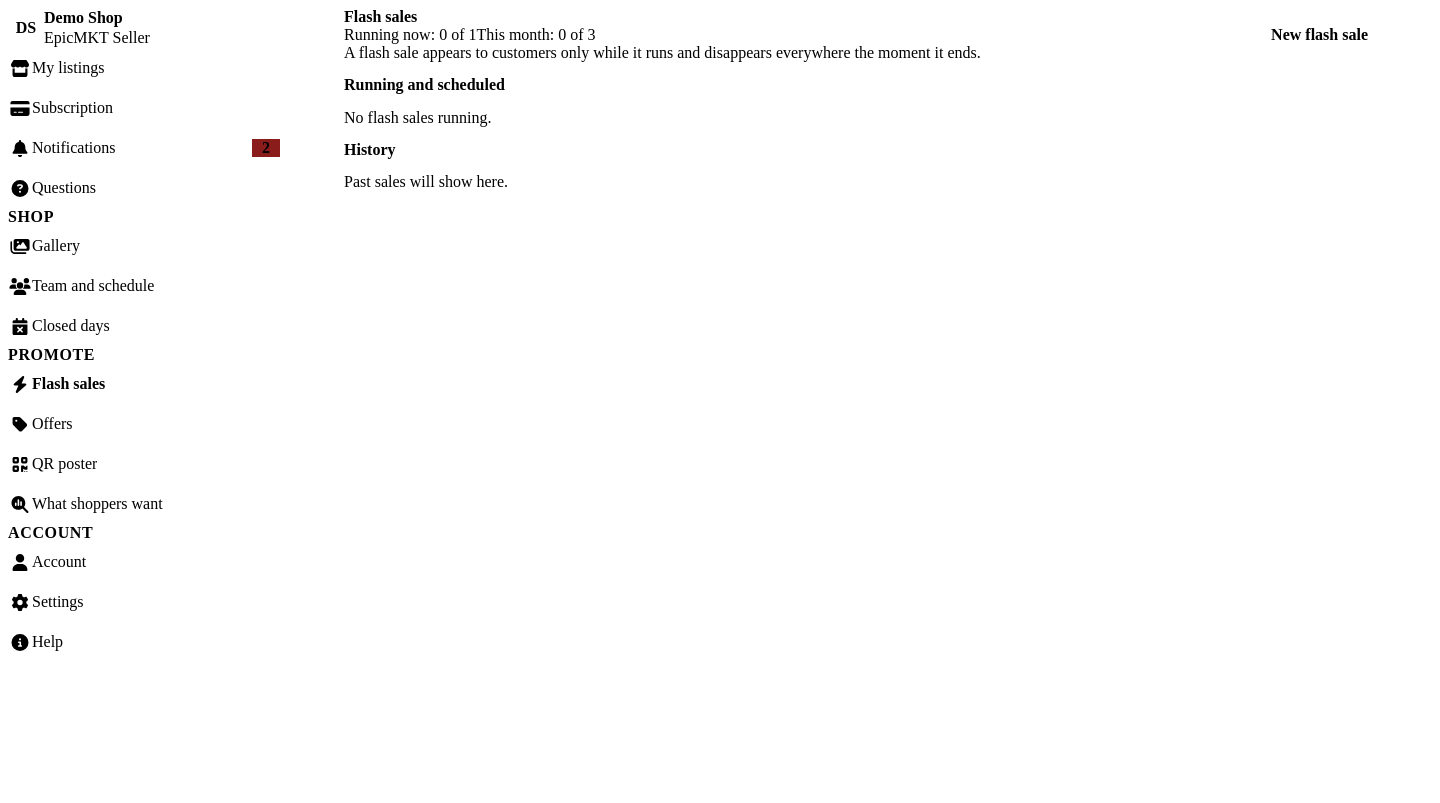
Test: flash sale per option (seller) › every option: shows before and after for each sold combination and the lowest price
The image size is (1440, 803).
Step 1. Click the button "New flash sale" → x=1320, y=35, box top-left (1271, 26), bottom-right (1368, 44)
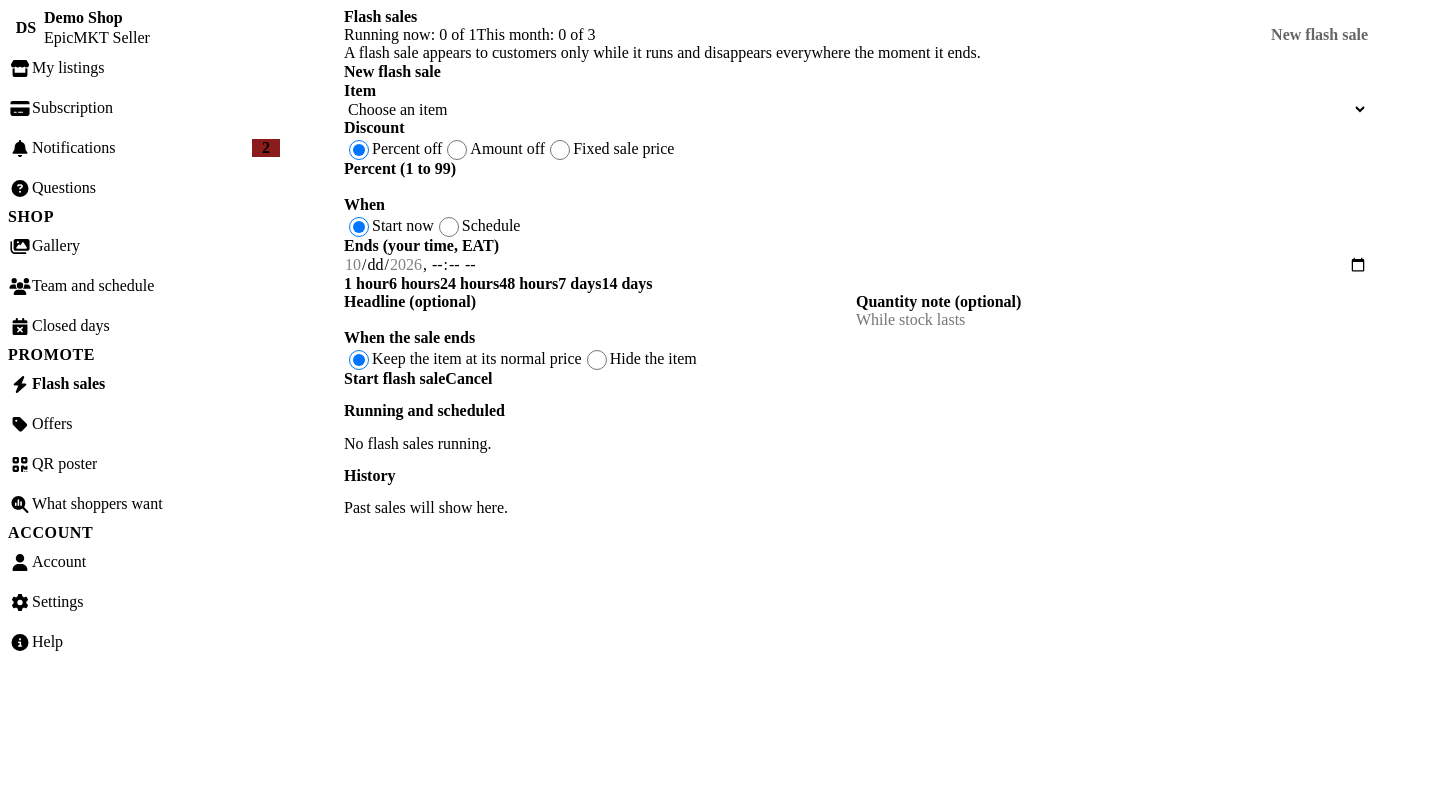
Step 2. Select "Fade cut (KES 500)" in the dropdown labelled "Item" → x=856, y=110, box top-left (344, 100), bottom-right (1368, 119)
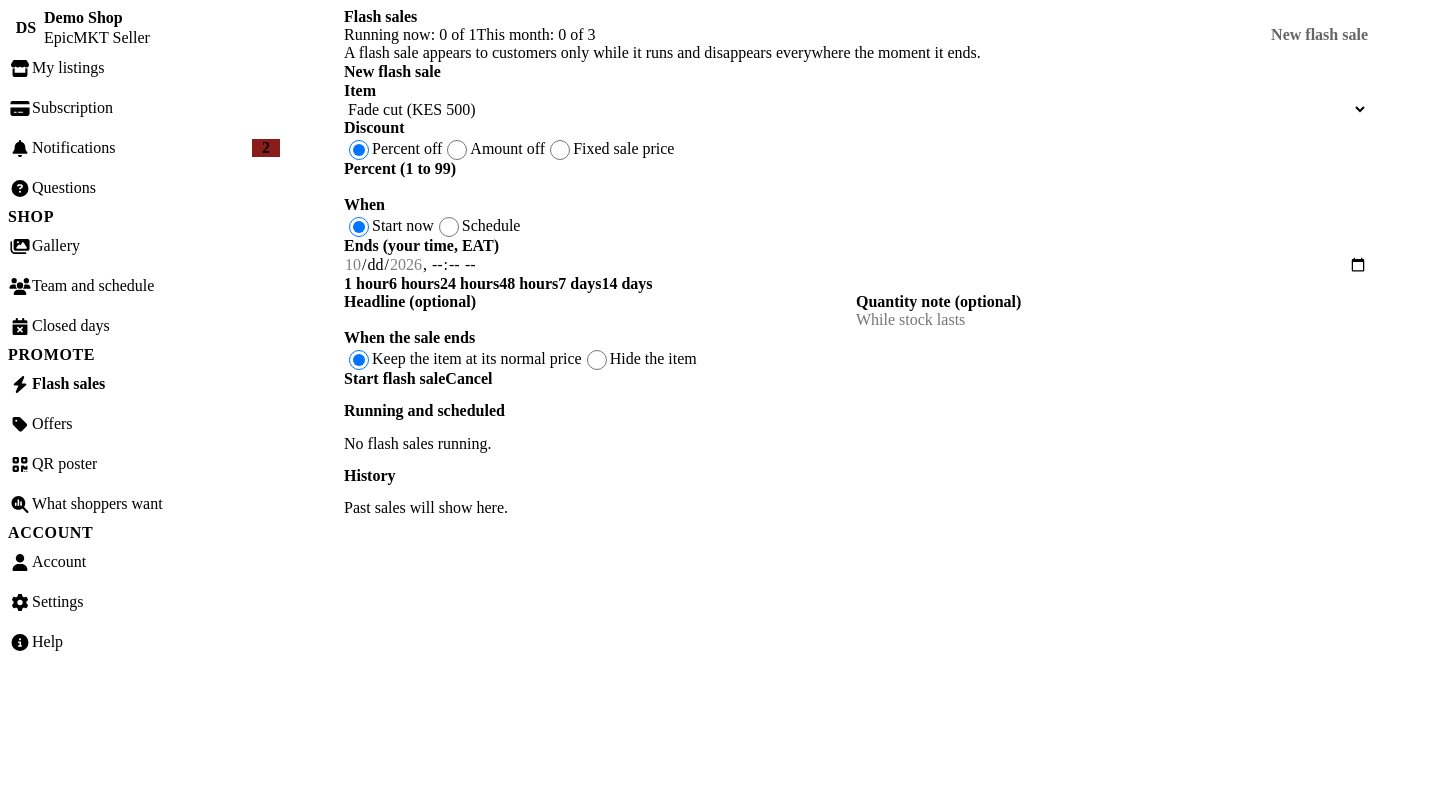
Step 3. Type "10" into the number field labelled "Percent (1 to 99)" → x=856, y=187, box top-left (344, 178), bottom-right (1368, 196)
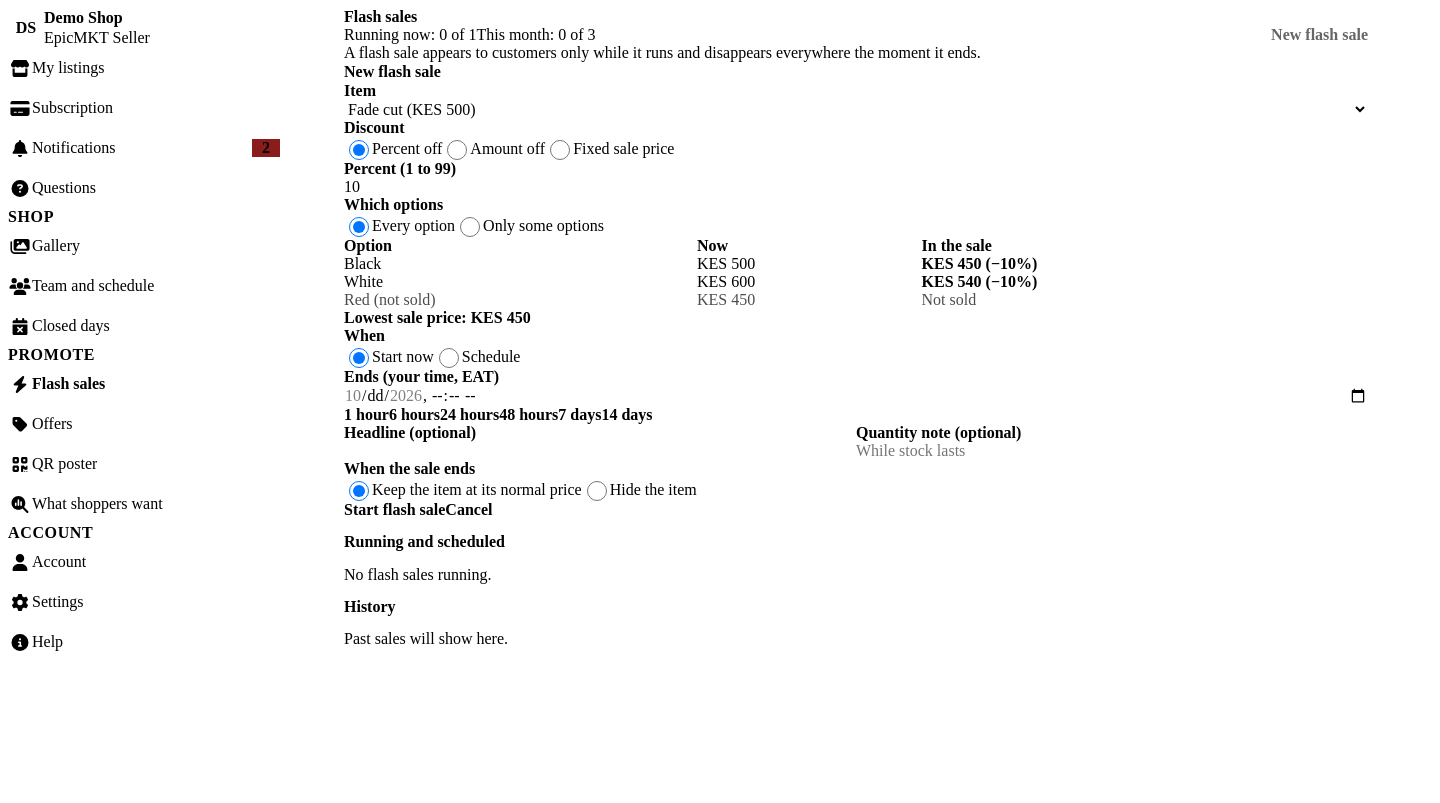
Result: the element with test id "fs-options" is shown at top-left (343, 196), bottom-right (1037, 326)
Result: the cell with test id "fs-after-colour=black" shows "KES 450" at top-left (922, 255), bottom-right (982, 272)
Result: the cell with test id "fs-after-colour=white" shows "KES 540" at top-left (922, 273), bottom-right (982, 290)
